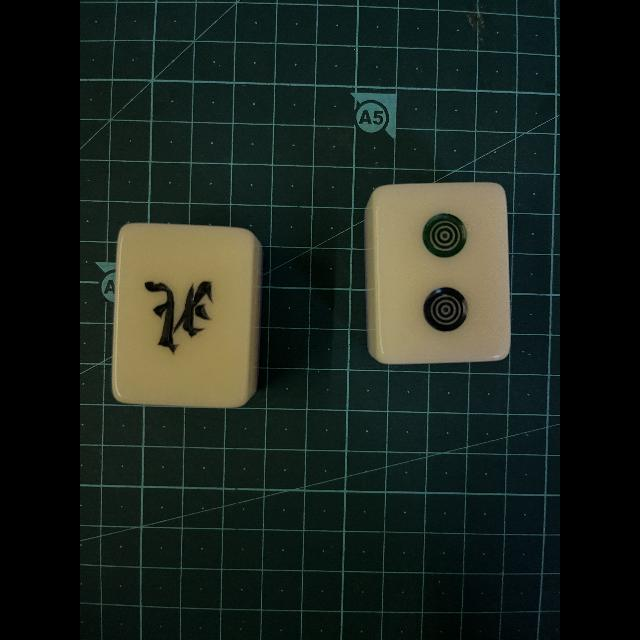d2: (378, 186, 506, 360)
wn: (117, 227, 245, 401)
